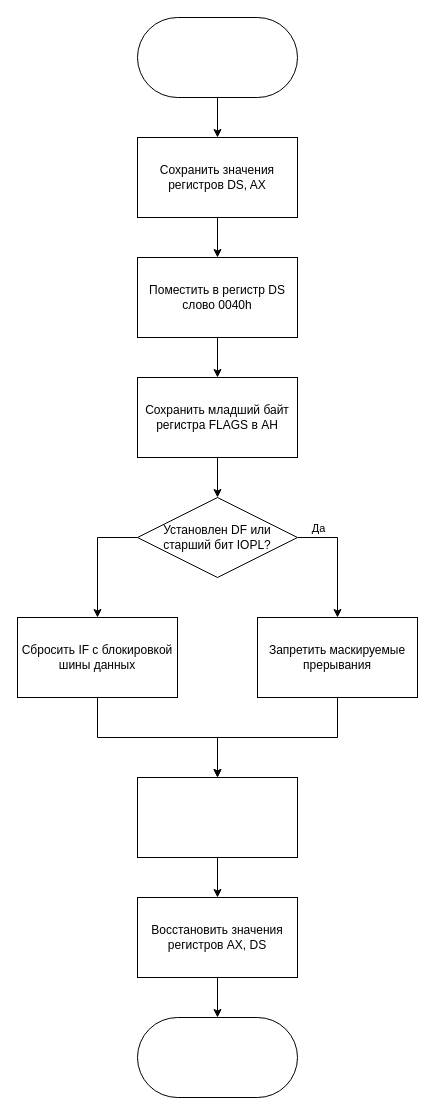
Image size: 435x1115. Some labels were removed from this diagram. Each missing label, with the centre of its shape:
Восстановить младший байт регистра FLAGS из AH: point 217,817
Конец: point 217,1057
Начало: point 217,57
